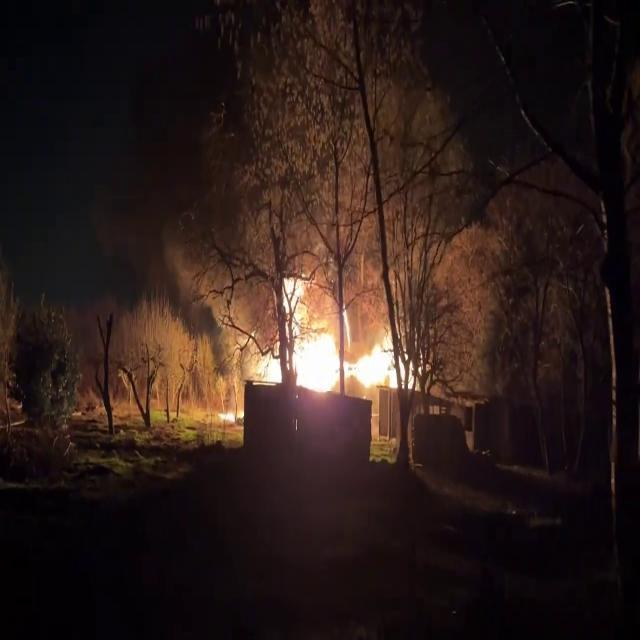Fire: (260, 277, 408, 402)
Smoke: (333, 54, 519, 324), (168, 210, 286, 369)
